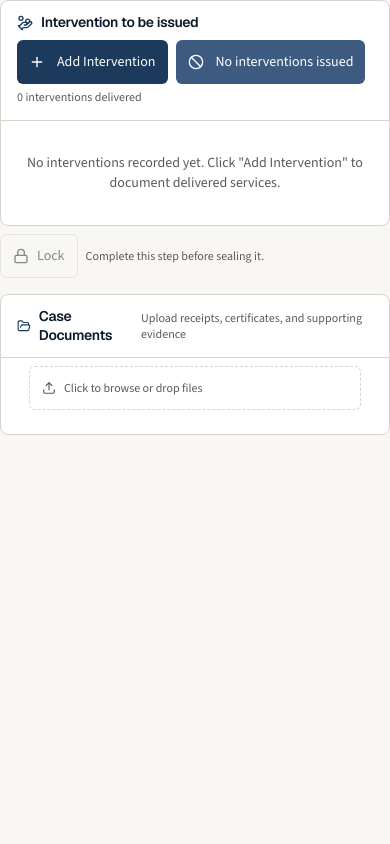
Test: StepImplementHIP adhoc intervention › enrolled-program scoping › points an unenrolled case at the ad-hoc path
Click the button "Add Intervention".
click(92, 62)  # box x1=17 y1=40 x2=168 y2=84
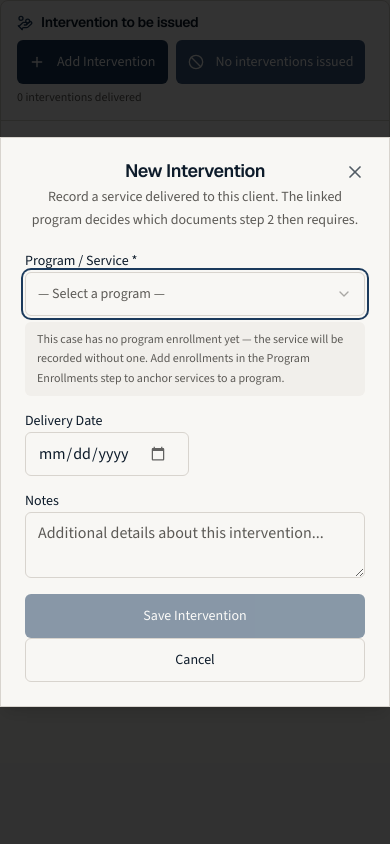
Check: the dialog is shown
Check: the text "no program enrollment yet" is shown, box x1=37 y1=330 x2=343 y2=386
